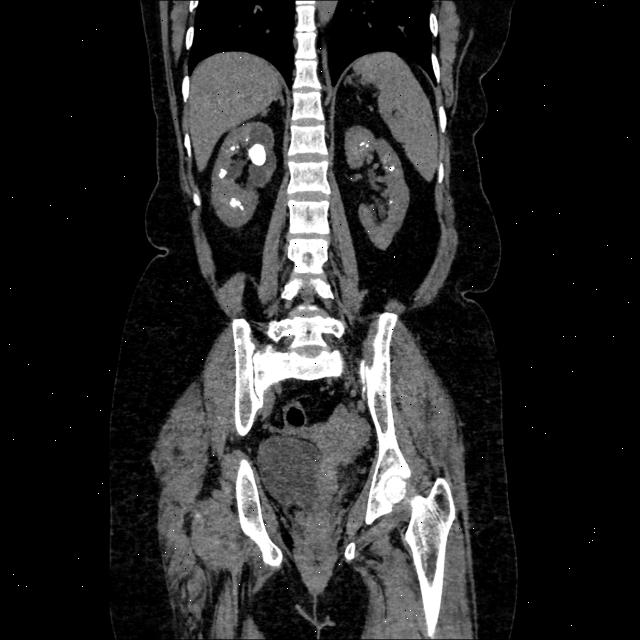kidneystone: (249, 144, 266, 166), (230, 198, 242, 209), (358, 136, 368, 146), (219, 168, 228, 178), (229, 131, 235, 144), (389, 194, 391, 217), (230, 145, 236, 151), (362, 134, 365, 141), (389, 165, 394, 168), (246, 136, 249, 140)
